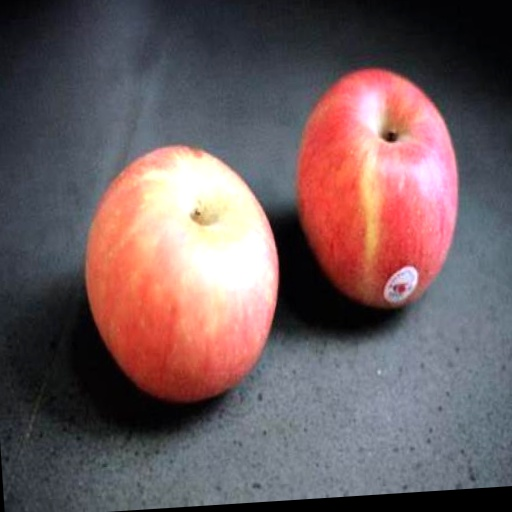fruit: (86, 146, 278, 402), (297, 69, 458, 307)
